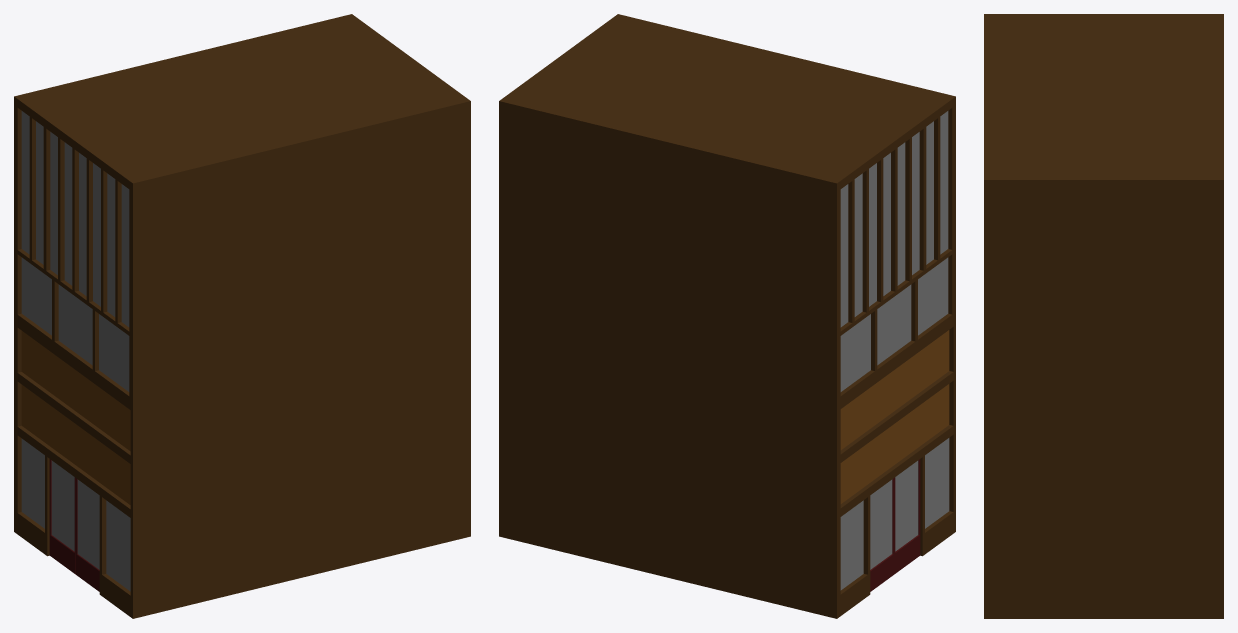
Rendered from Building_Cafe_V1.fbx.
The picture shows the model from 3 angles, left to right: view 1: azimuth 30°, elevation 25°; view 2: azimuth 150°, elevation 25°; view 3: azimuth 270°, elevation 25°; orthographic projection.
Parts seen in each view (by area): view 1: Mesh huis, Glass, Glass_deur; view 2: Mesh huis, Glass, Glass_deur; view 3: Mesh huis.
Part boxes in pixels (box(x1,y1,x2,y2)): Mesh huis: box(14, 14, 470, 618); Glass: box(21, 111, 130, 591); Glass_deur: box(51, 460, 99, 569); Mesh huis: box(499, 14, 955, 618); Glass: box(840, 111, 949, 590); Glass_deur: box(870, 460, 918, 569); Mesh huis: box(984, 14, 1223, 618).
Size of the model in its own units: 323 by 398 by 197.
